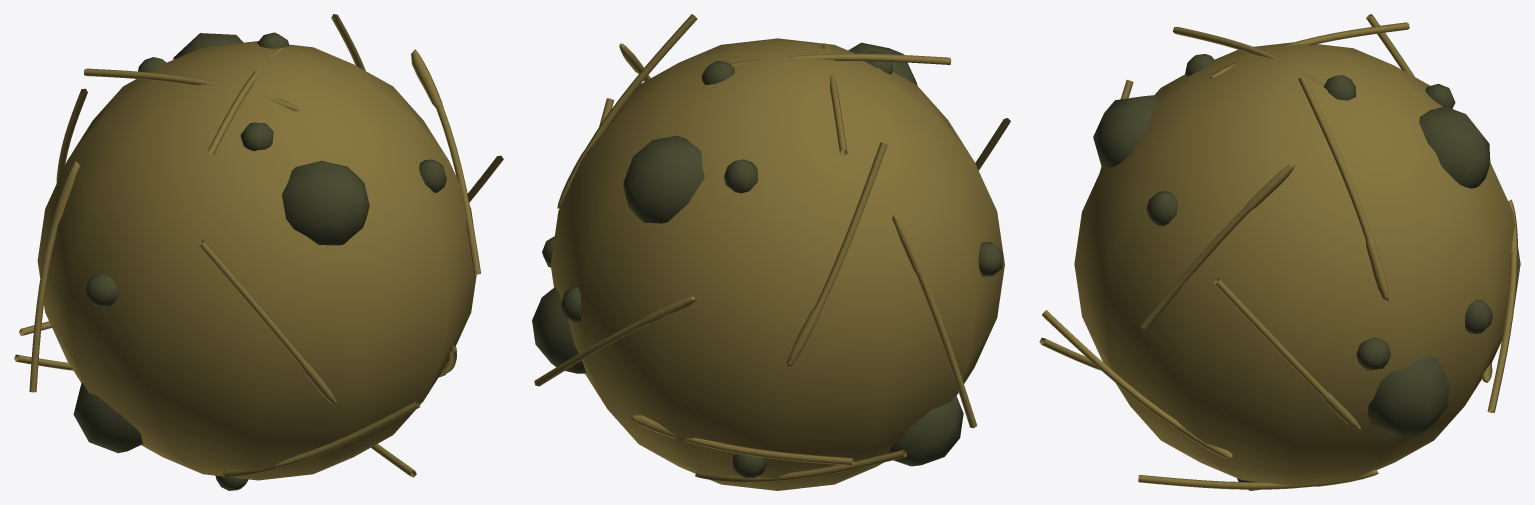
Rendered from SM_OilyHay.fbx.
3 views of the same model, side by side, from view 1: azimuth 30°, elevation 25°; view 2: azimuth 150°, elevation 25°; view 3: azimuth 270°, elevation 25° (orthographic). The views are drawn at different scales.
Parts seen in each view (by area): view 1: OilyHay; view 2: OilyHay; view 3: OilyHay.
Boxes of the visible parts, x1,y1,x2,y2 form: OilyHay: (14, 14, 503, 490); OilyHay: (532, 14, 1010, 490); OilyHay: (1039, 14, 1520, 490).
Size of the model in its own units: 1453 by 1446 by 1436.
